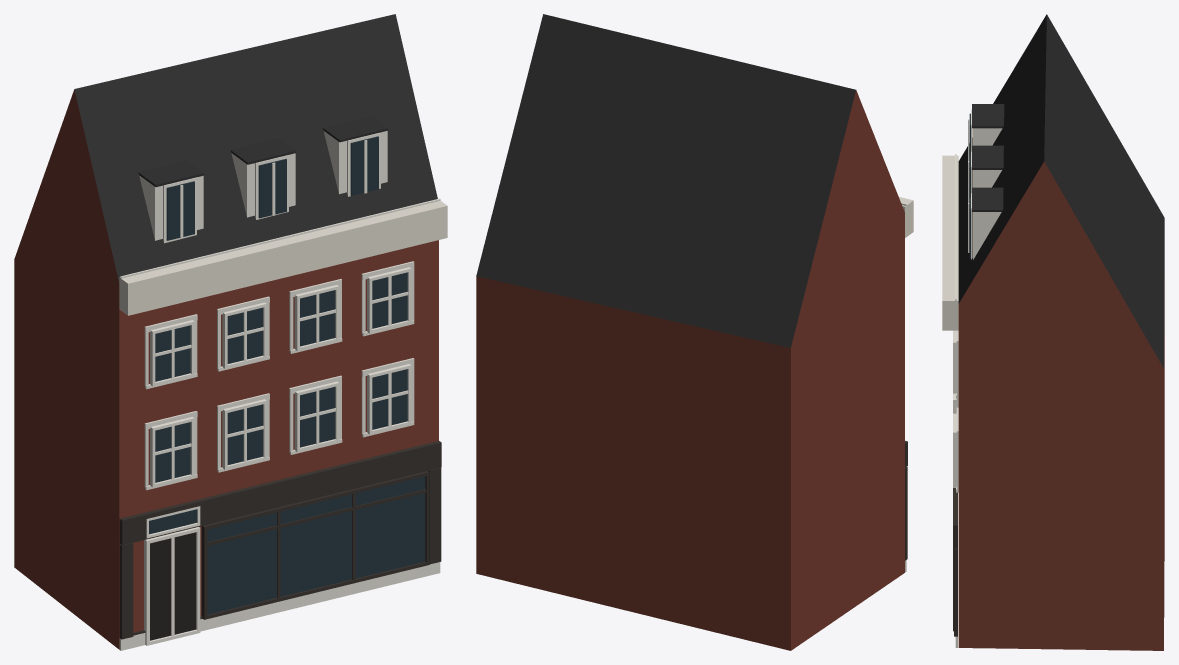
3 renders of one model, left to right at view 1: azimuth 30°, elevation 25°; view 2: azimuth 150°, elevation 25°; view 3: azimuth 270°, elevation 25°, orthographic. The views are drawn at different scales.
Visible parts, largest first — view 1: spec-0363100012182374; view 2: spec-0363100012182374; view 3: spec-0363100012182374.
Part boxes in pixels (x1,y1,x2,y2): spec-0363100012182374: (14,14,447,650); spec-0363100012182374: (476,14,913,650); spec-0363100012182374: (942,14,1164,650).
Bounding box in the file's own units: 8.51 × 13.11 × 5.4.
